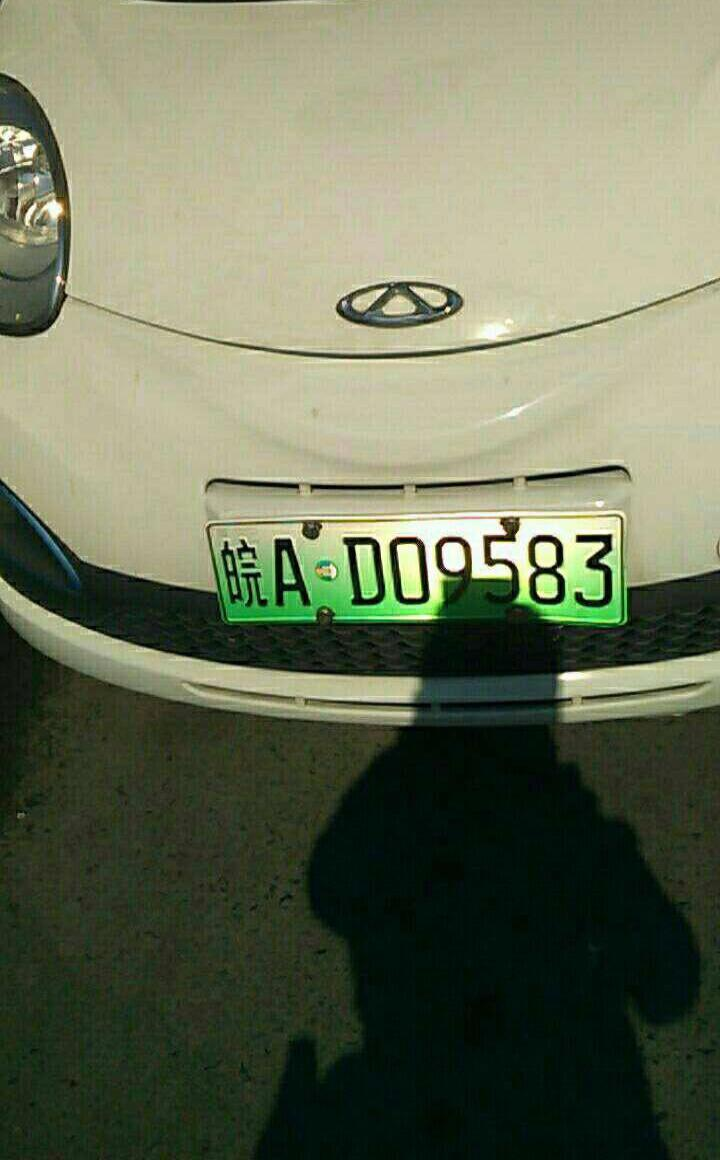car_id: (220, 514, 628, 615)
